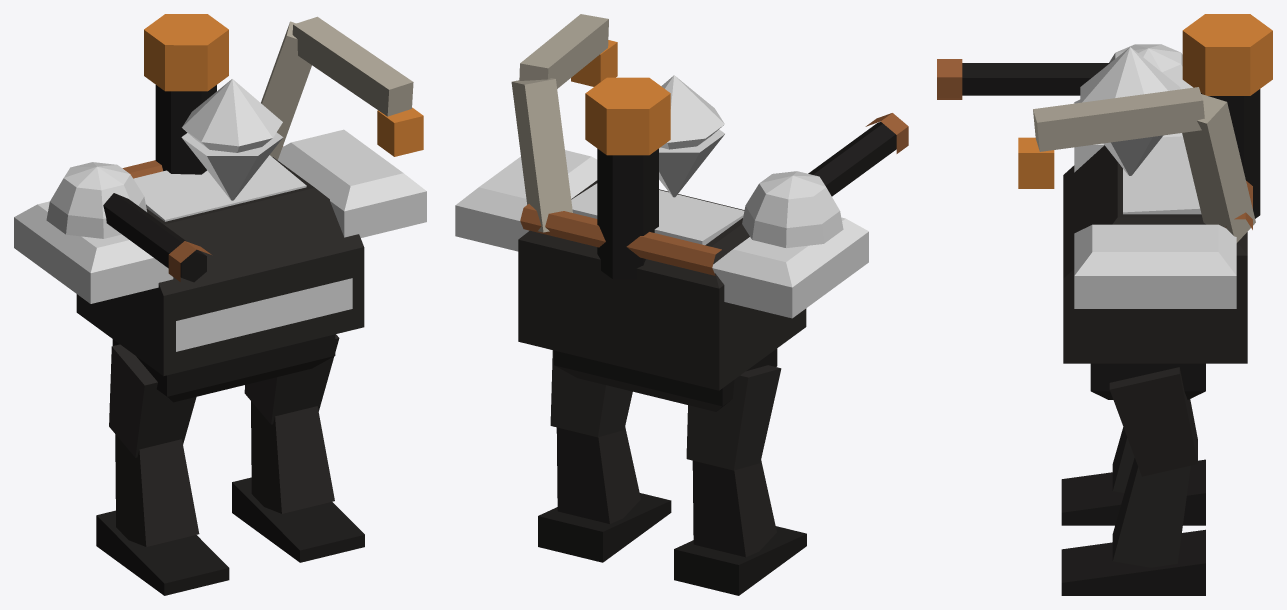
Rendered from cmd_commander.7a167190.glb.
The picture shows the model from 3 angles, left to right: view 1: azimuth 30°, elevation 25°; view 2: azimuth 150°, elevation 25°; view 3: azimuth 270°, elevation 25°; orthographic projection. The views are drawn at different scales.
Parts seen in each view (by area): view 1: lod0; view 2: lod0; view 3: lod0.
Part boxes in pixels (left/top/right/bottom): lod0: left=14, top=14, right=426, bottom=595; lod0: left=455, top=14, right=908, bottom=595; lod0: left=937, top=14, right=1272, bottom=595.
Size of what is drawn, in the model's own units: 2.28 by 3.14 by 1.86.
